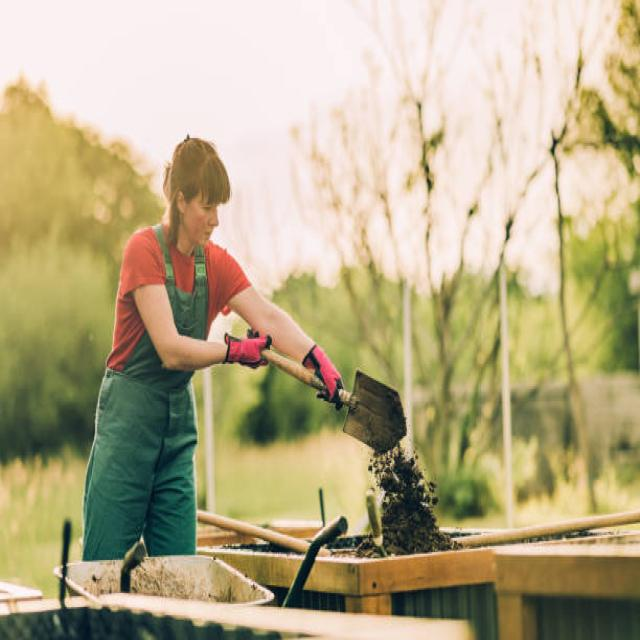Gloves: (301, 341, 350, 421), (219, 319, 276, 375)
person: (79, 135, 342, 562)
